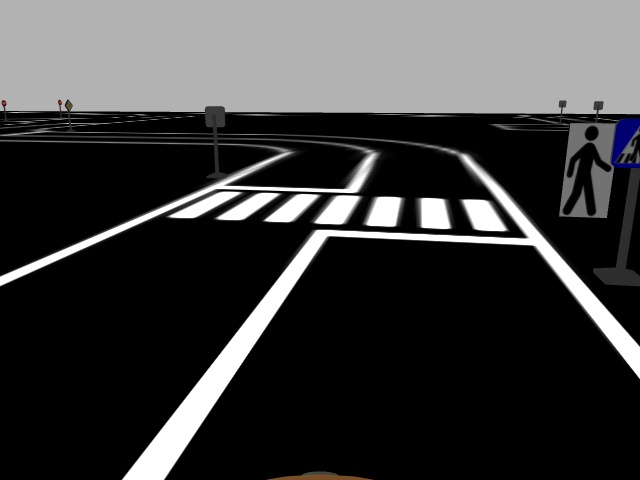pedestrian: (556, 119, 619, 218)
